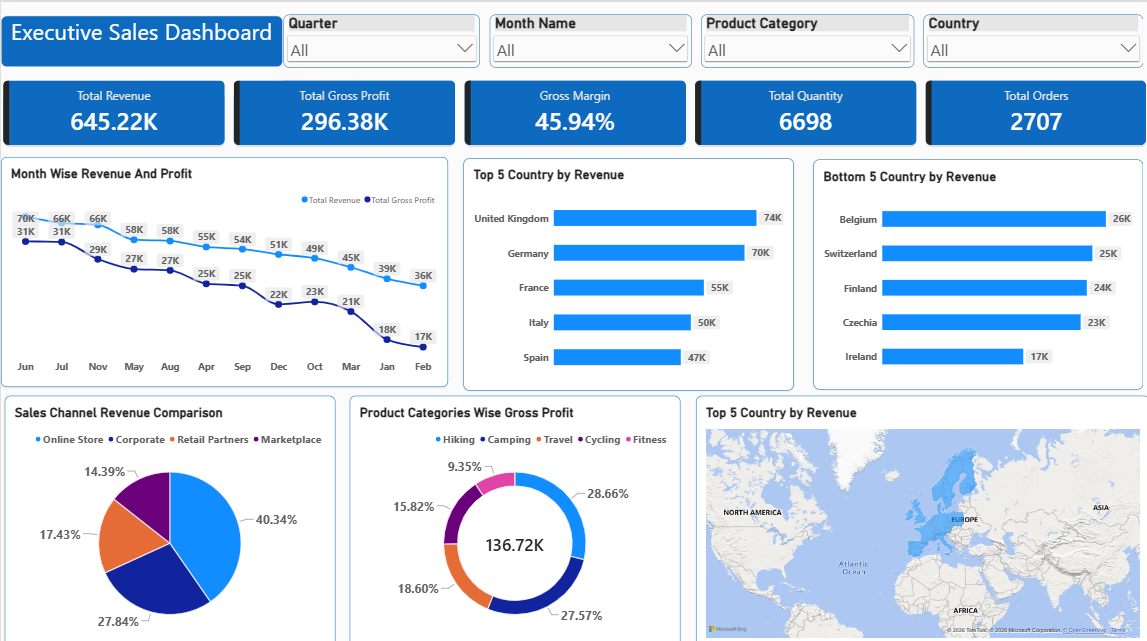

This screenshot's page, from the dashboard's own definition file:
{"tool":"powerbi","page":{"name":"Page 1","canvas":[1920,1080],"ordinal":0},"visuals":[{"type":"cardVisual","fields":{"Data":["All_Measures.Total Revenue","All_Measures.Total Gross Profit","All_Measures.Gross Margin","All_Measures.Total Quantity","All_Measures.Total Orders"]},"box":[0,126.8,1920.5,115.3],"z":0},{"type":"textbox","box":[0,23.1,470.3,85.3],"z":1000},{"type":"slicer","fields":{"Values":["Sales_Data.Product Category"]},"box":[1168.5,21.7,356,88.7],"z":2000},{"type":"slicer","fields":{"Values":["Date_Table.Month_Name"]},"box":[815.8,21.7,337.3,88.7],"z":3000},{"type":"slicer","fields":{"Values":["Date_Table.Quater"]},"box":[472.3,21.7,328,88.7],"z":4000},{"type":"slicer","fields":{"Values":["Sales_Data.Country"]},"box":[1539.6,21.7,367.2,88.7],"z":5000},{"type":"lineChart","title":"Month Wise Revenue And Profit","fields":{"Category":["Date_Table.Month_Name"],"Y":["All_Measures.Total Revenue"],"Y2":["All_Measures.Total Gross Profit"]},"box":[0,258.2,746.2,384.3],"z":6000},{"type":"pieChart","title":"Sales Channel Revenue Comparison","fields":{"Category":["Sales_Data.Sales Channel"],"Y":["All_Measures.Total Revenue"]},"box":[6.9,657.1,551.7,421.9],"z":7000},{"type":"clusteredBarChart","title":"Top 5 Country by Revenue ","fields":{"Category":["Sales_Data.Country"],"Y":["All_Measures.Total Revenue"]},"box":[771.4,259.9,551.4,388],"z":8000},{"type":"donutChart","title":"Product Categories Wise Gross Profit ","fields":{"Category":["Sales_Data.Product Category"],"Y":["All_Measures.Total Gross Profit"]},"box":[582.8,657.1,551.7,421.9],"z":9000},{"type":"clusteredBarChart","title":"Bottom 5 Country by Revenue ","fields":{"Category":["Sales_Data.Country"],"Y":["All_Measures.Total Revenue"]},"box":[1356.3,262.9,550.3,384.3],"z":10000},{"type":"filledMap","title":"Top 5 Country by Revenue ","fields":{"Category":["Sales_Data.Country"]},"box":[1161.1,657.1,759.4,421.3],"z":11000}]}

Visuals, with their boxes in screenshot pixels (x1, y1, x2, y2), scaled from the page's 1920x1080 canvas onto the 1147x641 screenshot:
cardVisual - All_Measures.Total Revenue x All_Measures.Total Gross Profit: <bbox>0, 75, 1146, 144</bbox>
textbox: <bbox>0, 14, 281, 64</bbox>
slicer - Sales_Data.Product Category: <bbox>698, 13, 911, 66</bbox>
slicer - Date_Table.Month_Name: <bbox>487, 13, 689, 66</bbox>
slicer - Date_Table.Quater: <bbox>282, 13, 478, 66</bbox>
slicer - Sales_Data.Country: <bbox>920, 13, 1139, 66</bbox>
"Month Wise Revenue And Profit" lineChart: <bbox>0, 153, 446, 381</bbox>
"Sales Channel Revenue Comparison" pieChart: <bbox>4, 390, 334, 640</bbox>
"Top 5 Country by Revenue " clusteredBarChart: <bbox>461, 154, 790, 385</bbox>
"Product Categories Wise Gross Profit " donutChart: <bbox>348, 390, 678, 640</bbox>
"Bottom 5 Country by Revenue " clusteredBarChart: <bbox>810, 156, 1139, 384</bbox>
"Top 5 Country by Revenue " filledMap: <bbox>694, 390, 1146, 640</bbox>
